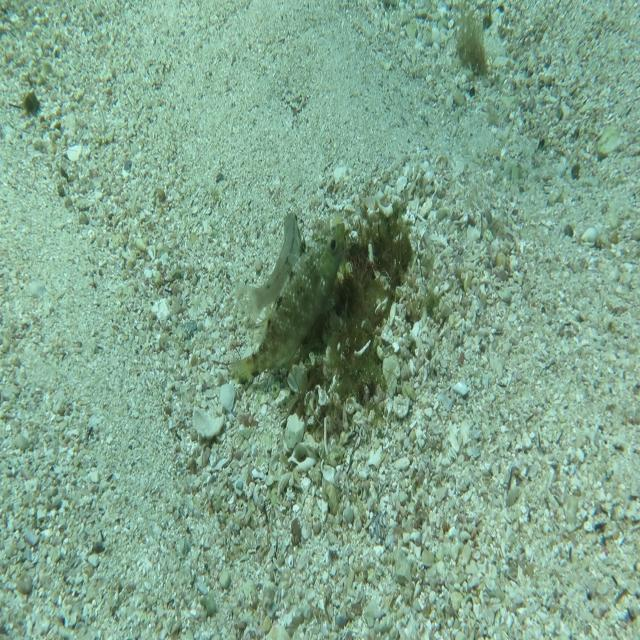FAN: (226, 221, 346, 386)
core_nest: (346, 217, 400, 273)
female: (233, 211, 304, 333)
nest: (267, 161, 427, 427)
